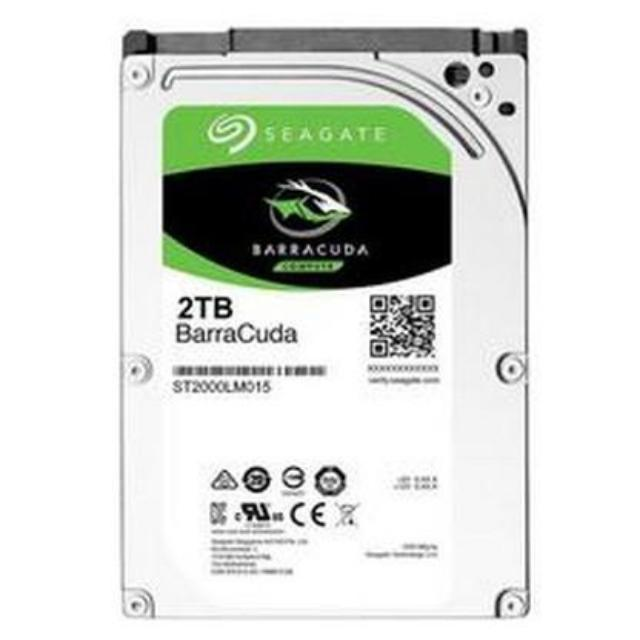DISK: (115, 26, 530, 628)
